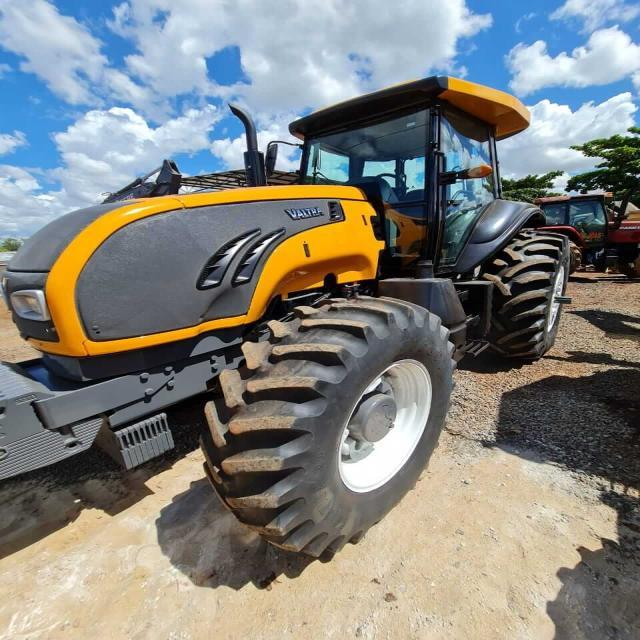Tratores - v5 YOLO V8L 2024-11-13: (7, 74, 573, 571)
